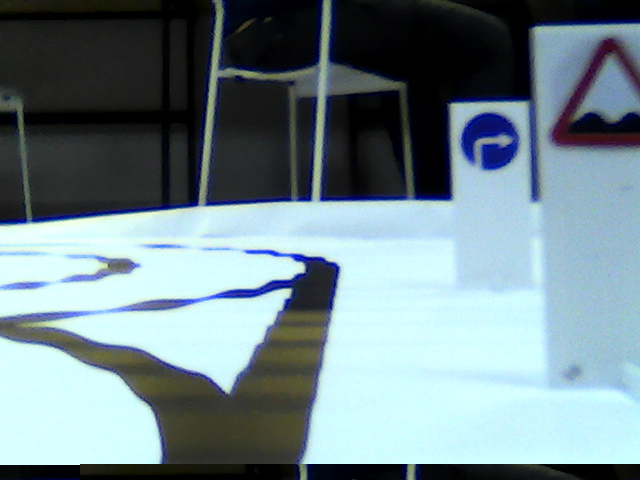Nerov: (551, 34, 640, 156)
Right: (462, 109, 519, 172)
